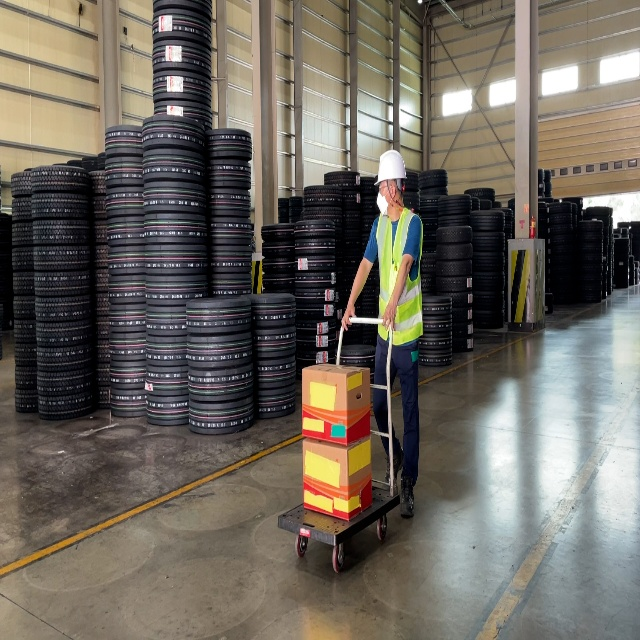Box: (302, 435, 372, 522), (301, 363, 371, 446)
Worker: (341, 149, 424, 518)
